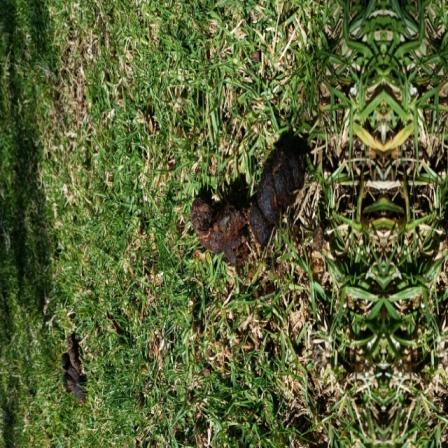dog-poop: (184, 139, 326, 269), (54, 336, 88, 398)
